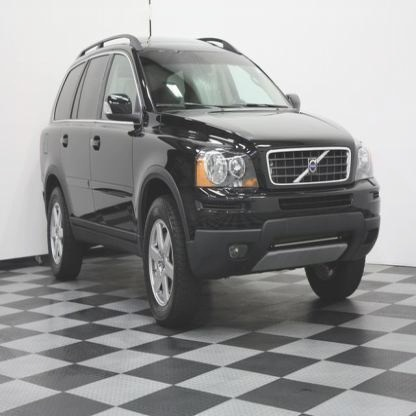Vehicle: (40, 1, 382, 331)
